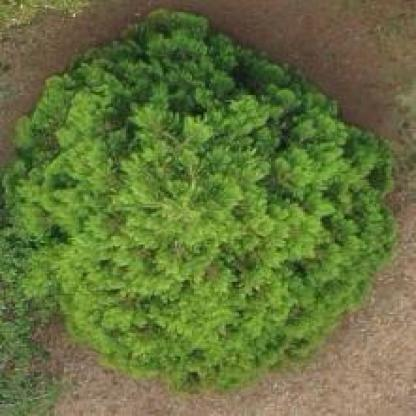Coniferous Tree: (8, 6, 392, 379)
